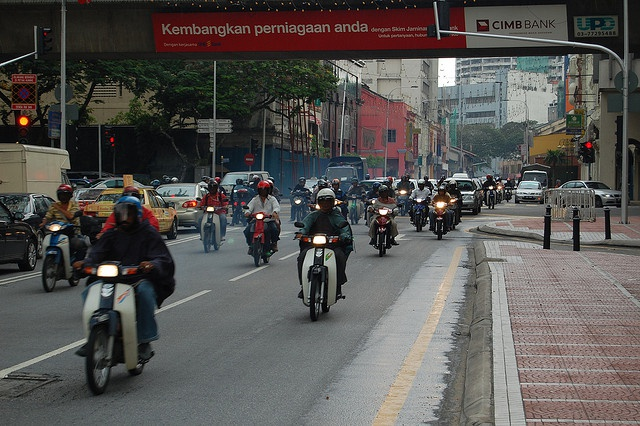non-vehicle: (74, 260, 145, 395), (294, 232, 351, 321), (38, 210, 83, 289), (244, 203, 276, 268), (195, 196, 229, 252), (367, 202, 402, 256), (428, 198, 454, 239), (407, 196, 431, 232), (344, 191, 366, 223), (288, 189, 309, 222), (395, 187, 412, 215), (361, 198, 377, 227), (482, 185, 498, 209), (449, 197, 458, 229)
